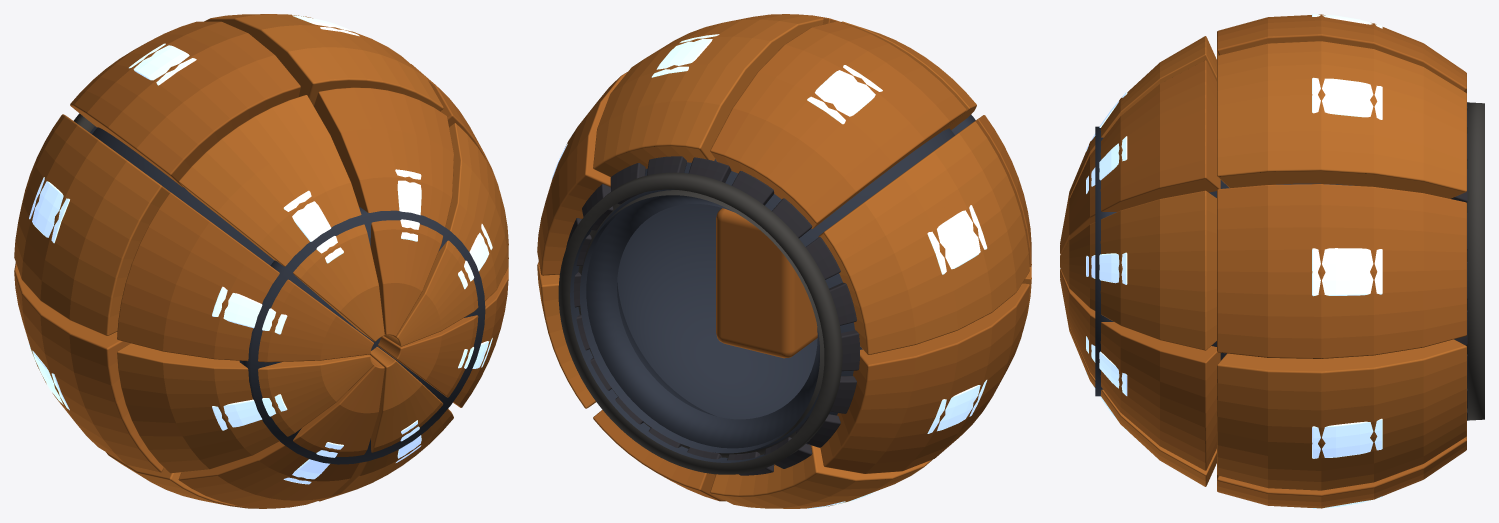
The model's file is orb_shell.glb.
3 views of the same model, side by side, from view 1: azimuth 30°, elevation 25°; view 2: azimuth 150°, elevation 25°; view 3: azimuth 270°, elevation 25° (orthographic).
Parts seen in each view (by area): view 1: PLATE_5_1, PLATE_4_1, PLATE_4_0, PLATE_5_0, PLATE_3_1, PLATE_6_1, PLATE_2_1, PLATE_3_0, PLATE_7_1, PLATE_6_0, SHELL_backcap, PLATE_1_1 (+12 smaller); view 2: SHELL_under, PLATE_4_0, PLATE_5_0, PLATE_3_0, PLATE_6_0, SHELL_lip, SHROUD_1, PLATE_2_0, PLATE_7_0, SHELL_band, PLATE_1_0, PLATE_0_0 (+17 smaller); view 3: PLATE_7_0, PLATE_6_0, PLATE_0_0, PLATE_7_1, PLATE_6_1, PLATE_0_1, PLATE_5_0, SHELL_lip, PLATE_1_0, WIN_7_0, PLATE_5_1, WIN_6_0 (+6 smaller).
Boxes of the visible parts, x1=… form: PLATE_5_1: x1=178, y1=95, x2=384, y2=341; PLATE_4_1: x1=117, y1=192, x2=373, y2=362; PLATE_4_0: x1=14, y1=114, x2=170, y2=335; PLATE_5_0: x1=70, y1=21, x2=300, y2=187; PLATE_3_1: x1=117, y1=343, x2=373, y2=473; PLATE_6_1: x1=313, y1=87, x2=453, y2=336; PLATE_2_1: x1=178, y1=354, x2=384, y2=508; PLATE_3_0: x1=14, y1=262, x2=163, y2=472; PLATE_7_1: x1=384, y1=123, x2=508, y2=346; PLATE_6_0: x1=204, y1=14, x2=443, y2=111; SHELL_backcap: x1=239, y1=207, x2=485, y2=464; PLATE_1_1: x1=319, y1=347, x2=453, y2=501; SHELL_under: x1=586, y1=128, x2=954, y2=451; PLATE_4_0: x1=818, y1=121, x2=1029, y2=354; PLATE_5_0: x1=710, y1=21, x2=966, y2=228; PLATE_3_0: x1=820, y1=283, x2=1029, y2=473; PLATE_6_0: x1=593, y1=14, x2=823, y2=177; SHELL_lip: x1=558, y1=172, x2=842, y2=474; SHROUD_1: x1=716, y1=208, x2=817, y2=358; PLATE_2_0: x1=710, y1=444, x2=932, y2=508; PLATE_7_0: x1=537, y1=72, x2=627, y2=275; SHELL_band: x1=570, y1=205, x2=791, y2=462; PLATE_1_0: x1=593, y1=410, x2=725, y2=501; PLATE_0_0: x1=537, y1=261, x2=595, y2=408; PLATE_7_0: x1=1217, y1=184, x2=1466, y2=358; PLATE_6_0: x1=1217, y1=41, x2=1466, y2=198; PLATE_0_0: x1=1217, y1=339, x2=1466, y2=490; PLATE_7_1: x1=1060, y1=190, x2=1216, y2=350; PLATE_6_1: x1=1060, y1=60, x2=1220, y2=254; PLATE_0_1: x1=1060, y1=270, x2=1220, y2=470; PLATE_5_0: x1=1217, y1=14, x2=1466, y2=91; SHELL_lip: x1=1466, y1=102, x2=1484, y2=420; PLATE_1_0: x1=1217, y1=436, x2=1466, y2=508; WIN_7_0: x1=1312, y1=248, x2=1382, y2=296; PLATE_5_1: x1=1060, y1=36, x2=1216, y2=243; WIN_6_0: x1=1312, y1=77, x2=1382, y2=119.
Bounding box in the file's own units: 1.1 × 1.1 × 0.9432.
